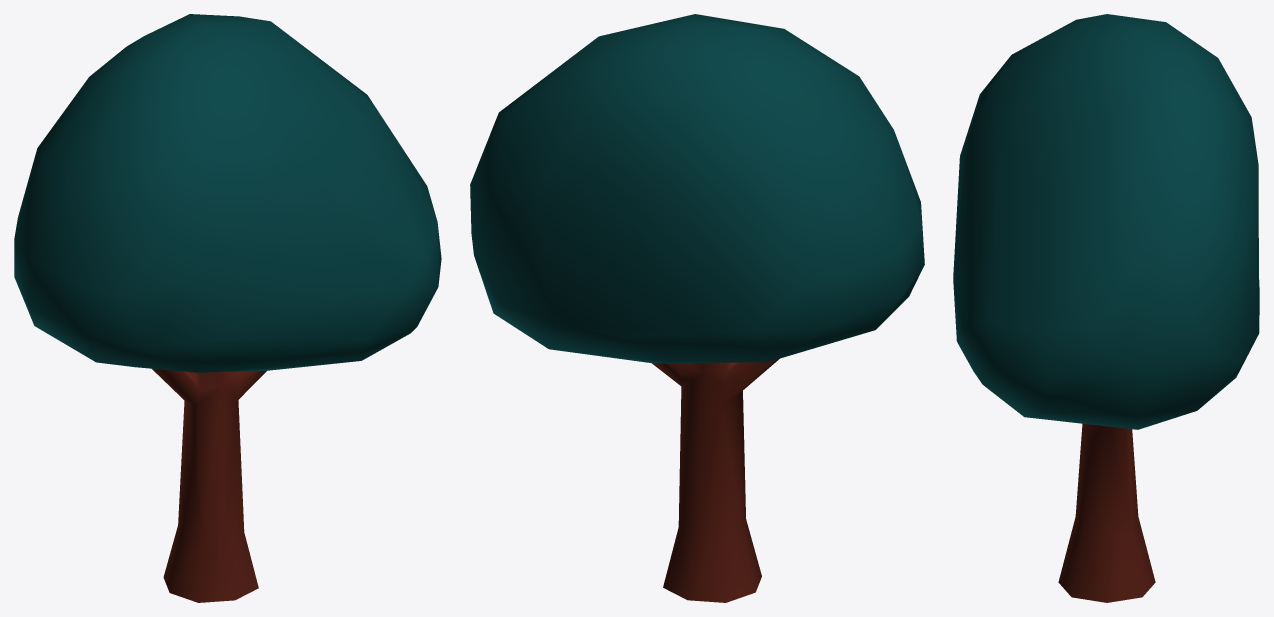
Rendered from detail_treeA.obj.
3 views of the same model, side by side, from view 1: azimuth 30°, elevation 25°; view 2: azimuth 150°, elevation 25°; view 3: azimuth 270°, elevation 25° (orthographic). The views are drawn at different scales.
Visible parts, largest first — view 1: detail_treeA_Cube.443; view 2: detail_treeA_Cube.443; view 3: detail_treeA_Cube.443.
Part boxes in pixels (x1,y1,x2,y2): detail_treeA_Cube.443: (14,14,441,602); detail_treeA_Cube.443: (470,14,924,602); detail_treeA_Cube.443: (953,14,1259,602).
Bounding box in the file's own units: 0.5937 × 0.7803 × 0.3916.
